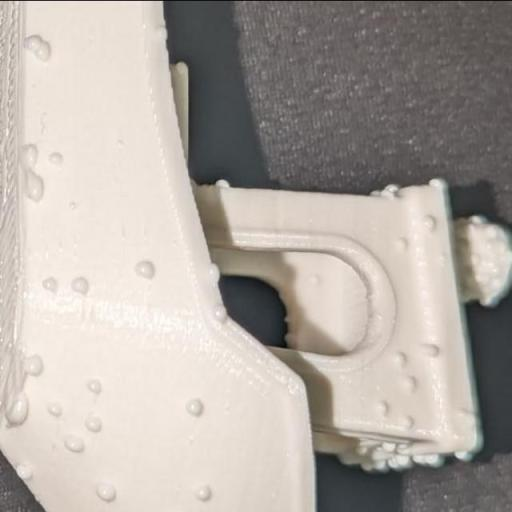blobs: (2, 392, 39, 430), (16, 135, 43, 175), (90, 474, 124, 504), (20, 351, 48, 383), (62, 426, 88, 457), (385, 447, 415, 472), (414, 444, 445, 468), (137, 258, 164, 285), (70, 272, 94, 302), (41, 269, 65, 299), (194, 480, 218, 506), (26, 177, 50, 202), (36, 33, 54, 66), (186, 395, 208, 421), (372, 395, 396, 418), (46, 145, 67, 171), (402, 370, 424, 394), (85, 378, 109, 400), (84, 412, 106, 436), (22, 28, 40, 56), (208, 259, 226, 286), (396, 406, 416, 430), (424, 338, 442, 364), (212, 300, 230, 325), (44, 398, 63, 420), (454, 447, 472, 470), (396, 231, 414, 253), (212, 172, 230, 194), (16, 462, 34, 480), (423, 211, 437, 234), (66, 195, 80, 212), (395, 352, 409, 368)
